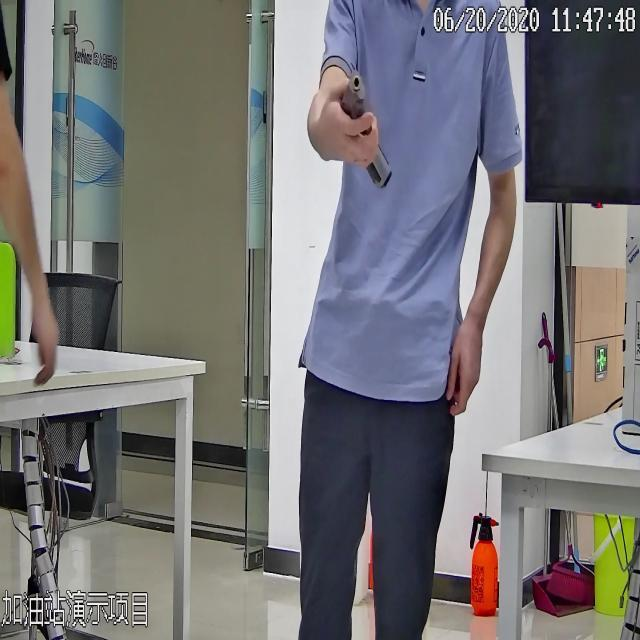gun-knife-thesis - v11 Yolov5 augmented: (337, 69, 399, 190)
